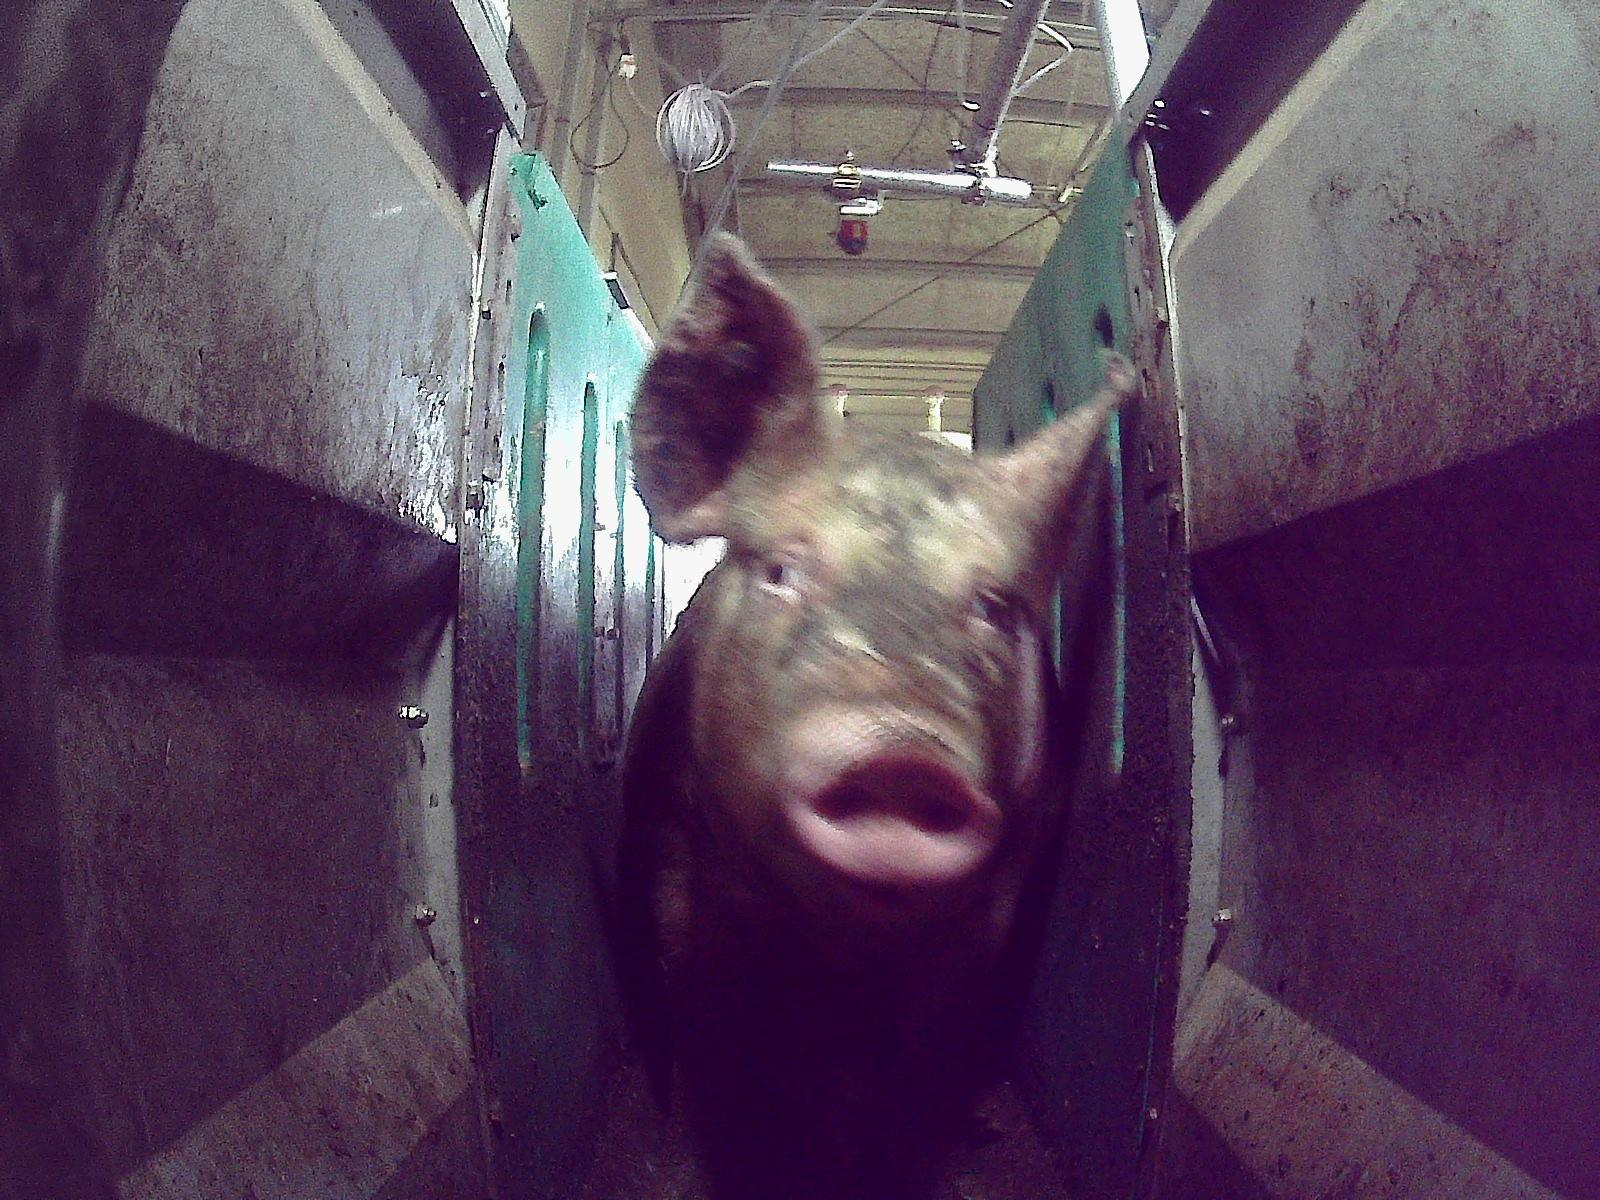Face: (676, 427, 1067, 927)
